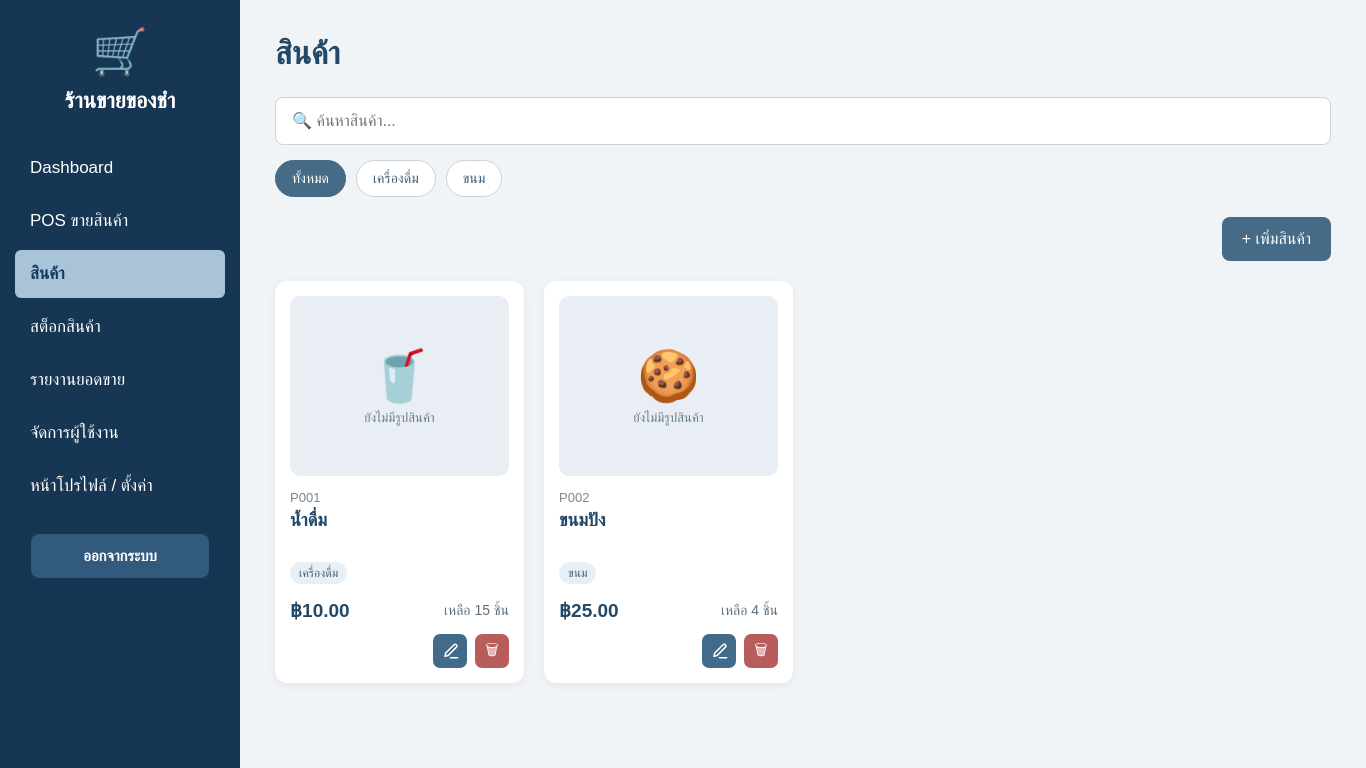
Test case: Product page › filters by category and can show all
Expected: the text "น้ำดื่ม" is shown, top-left (290, 510), bottom-right (327, 530)
Expected: the button "+ เพิ่มสินค้า" is shown, top-left (1222, 217), bottom-right (1331, 261)
Click the button "ขนม". click: (474, 178)
box: top-left (446, 160), bottom-right (502, 197)
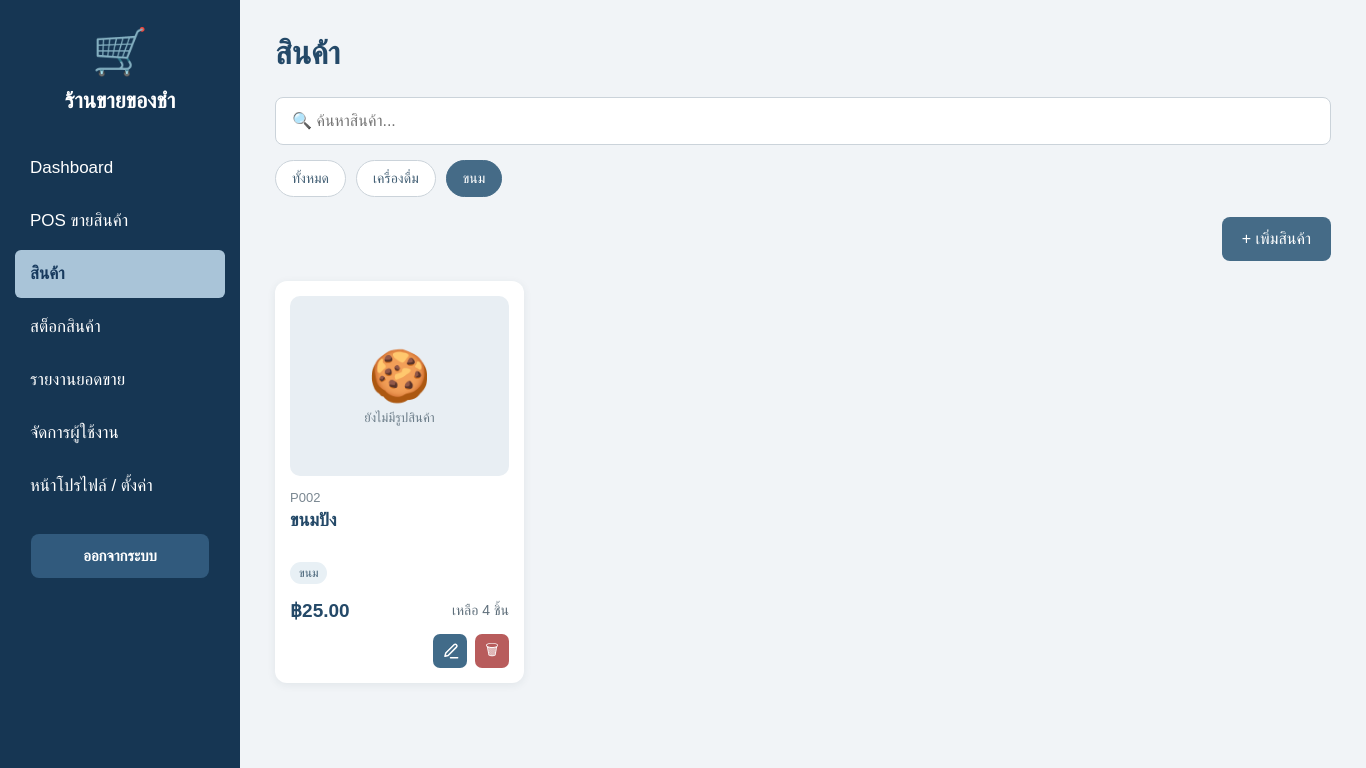
Expected: the text "ขนมปัง" is shown, top-left (290, 510), bottom-right (337, 530)
Result: the text "น้ำดื่ม" is gone
Click the button "ทั้งหมด". click: (310, 178)
box: top-left (275, 160), bottom-right (346, 197)
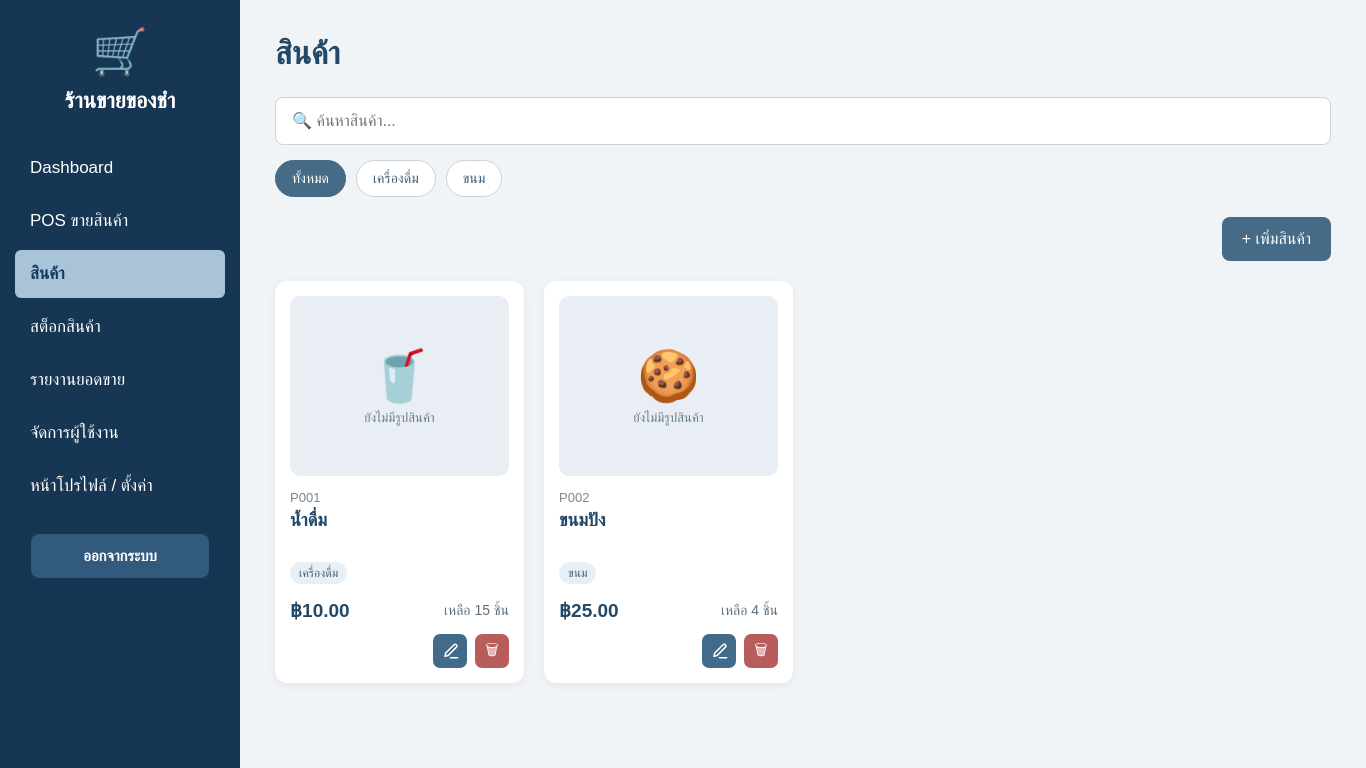
Result: the text "น้ำดื่ม" is shown at top-left (290, 510), bottom-right (327, 530)
